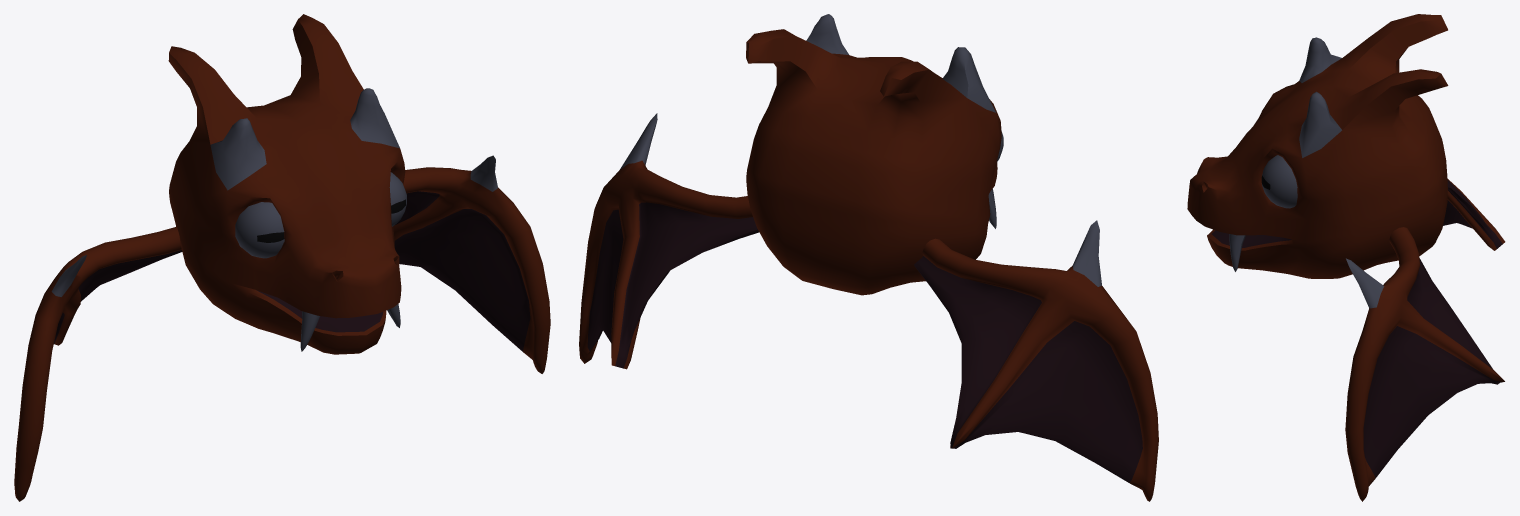
File: Dragon.obj
The picture shows the model from 3 angles, left to right: view 1: azimuth 30°, elevation 25°; view 2: azimuth 150°, elevation 25°; view 3: azimuth 270°, elevation 25°; orthographic projection. The views are drawn at different scales.
Parts seen in each view (by area): view 1: Dragon_Fly_Cube.222; view 2: Dragon_Fly_Cube.222; view 3: Dragon_Fly_Cube.222.
Part boxes in pixels (x1,y1,x2,y2): Dragon_Fly_Cube.222: [14, 14, 550, 501]; Dragon_Fly_Cube.222: [579, 14, 1158, 501]; Dragon_Fly_Cube.222: [1187, 14, 1505, 501].
Bounding box in the file's own units: 3.59 × 2.44 × 2.05.
